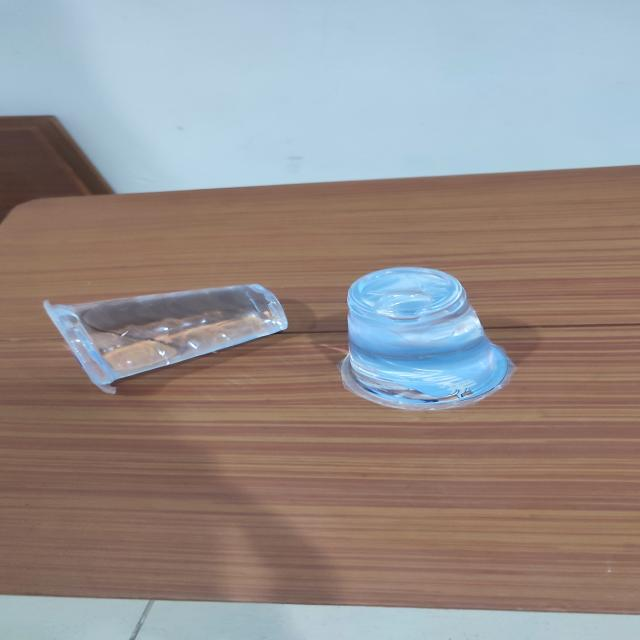air gelas: (326, 261, 533, 411), (34, 289, 298, 393)
